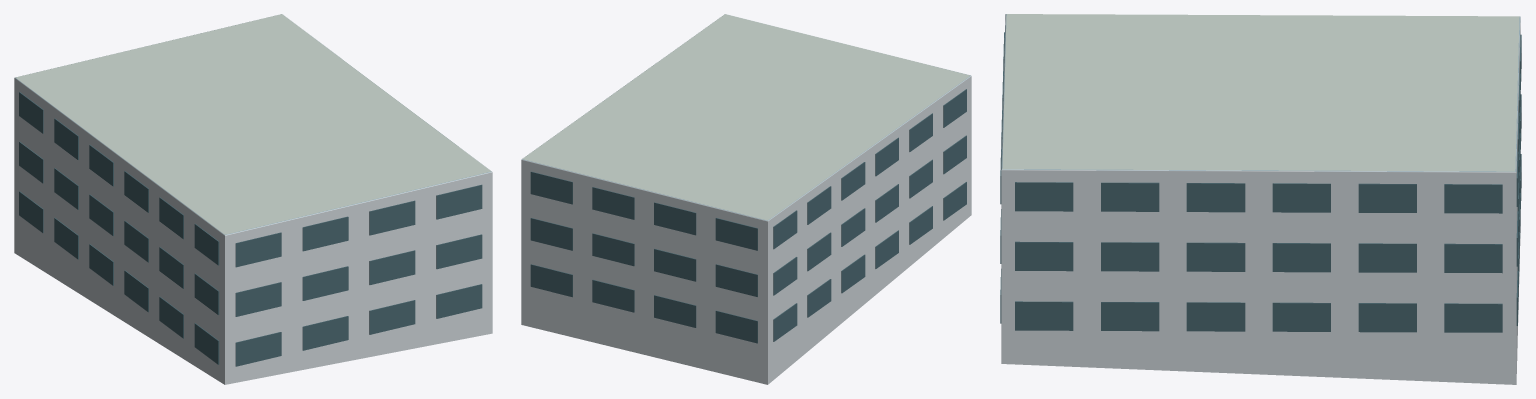
File: intact.glb
3 renders of one model, left to right at view 1: azimuth 30°, elevation 25°; view 2: azimuth 150°, elevation 25°; view 3: azimuth 270°, elevation 25°, orthographic. The views are drawn at different scales.
Parts seen in each view (by area): view 1: SM_osm-468931915_Intact_00, SM_osm-468931915_Intact_01; view 2: SM_osm-468931915_Intact_00, SM_osm-468931915_Intact_01; view 3: SM_osm-468931915_Intact_00, SM_osm-468931915_Intact_01.
Boxes of the visible parts, <box> form: SM_osm-468931915_Intact_00: <box>14,14,492,384</box>; SM_osm-468931915_Intact_01: <box>19,92,482,366</box>; SM_osm-468931915_Intact_00: <box>521,14,971,384</box>; SM_osm-468931915_Intact_01: <box>530,89,966,343</box>; SM_osm-468931915_Intact_00: <box>1001,14,1520,384</box>; SM_osm-468931915_Intact_01: <box>1000,32,1521,332</box>.
Bounding box in the file's own units: 1.59 × 0.9922 × 2.2.
